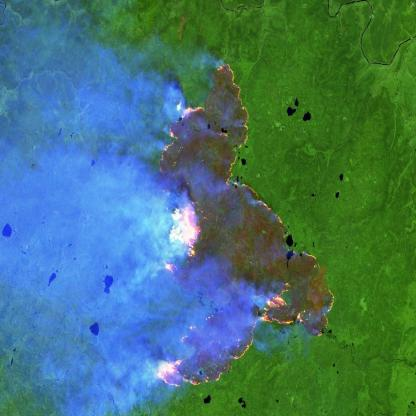fire: (108, 56, 338, 392)
